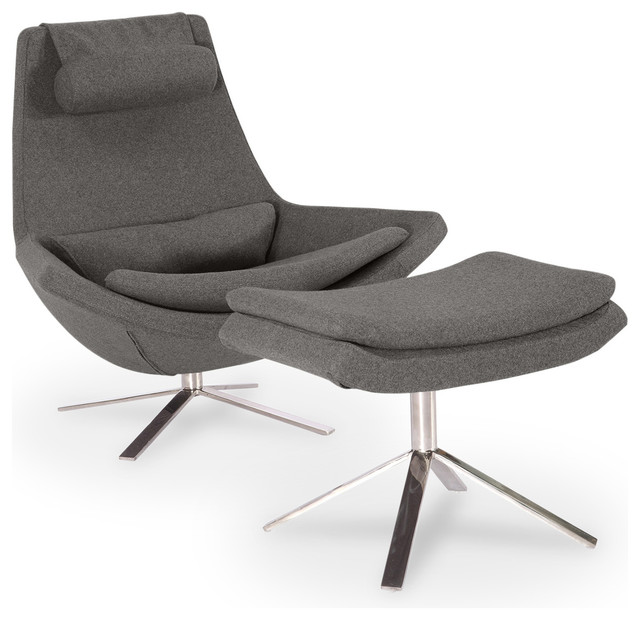chairs: (10, 12, 450, 468), (220, 249, 629, 591)
